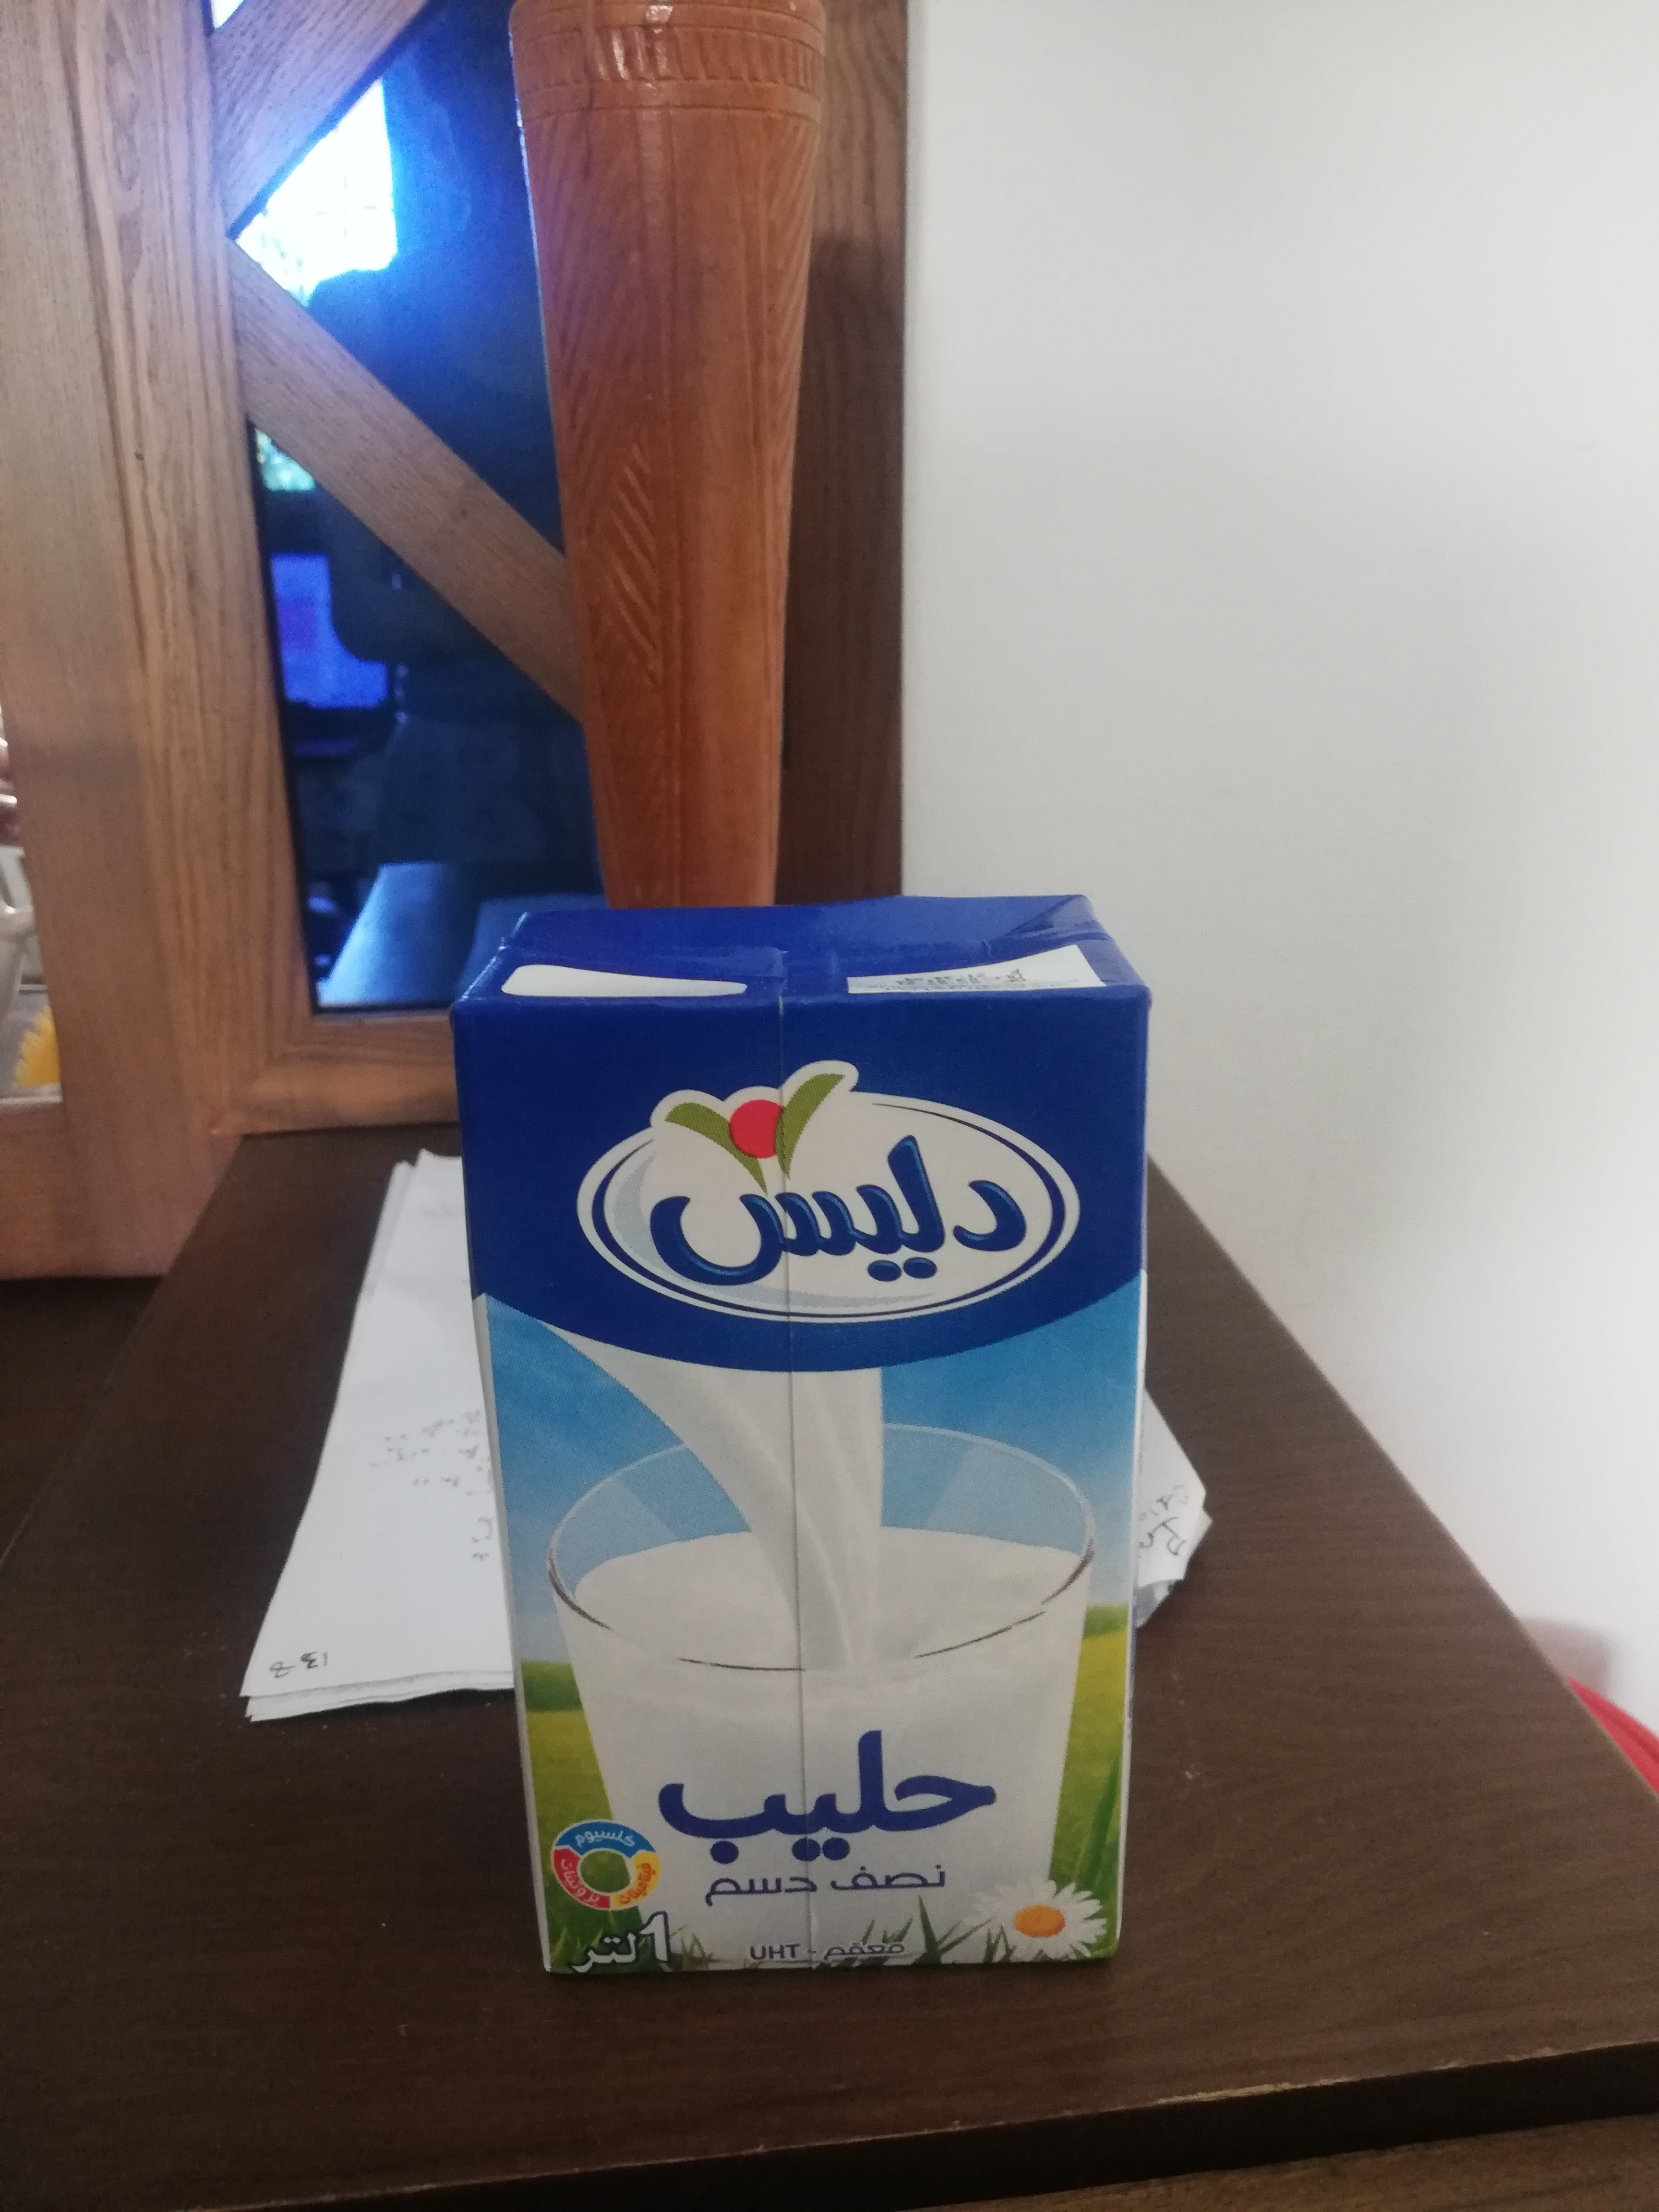Lait delice: (441, 894, 1155, 1980)
